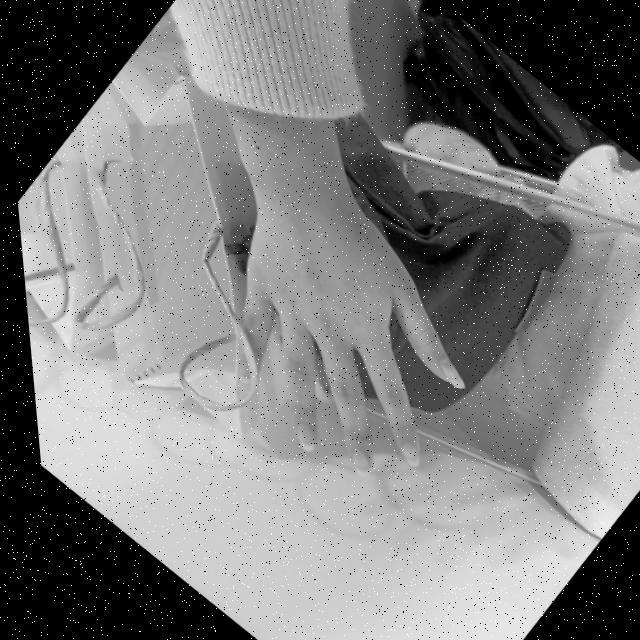no-gloves: (128, 148, 522, 512)
